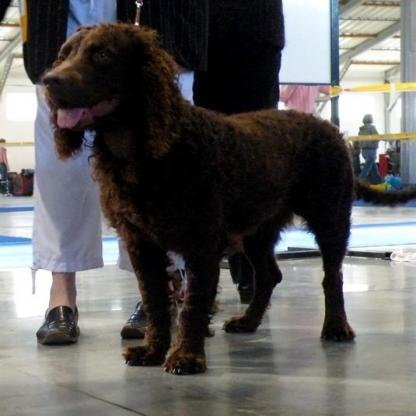Sussex_spaniel: (40, 21, 414, 372)
